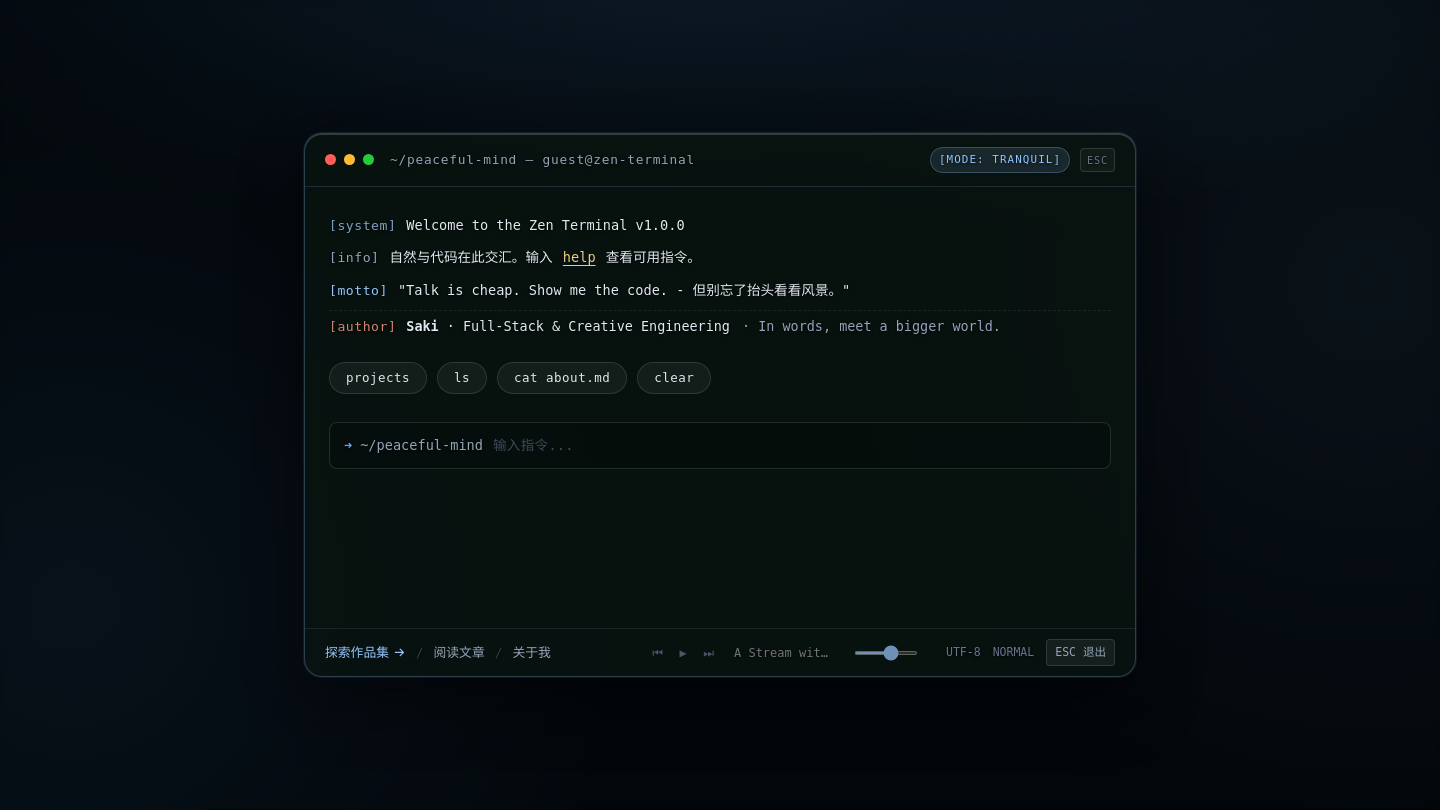
ZenTerminalModal › renders Hallmark studied DNA welcome banner and responds to quick capsule click
The width and height of the screenshot is (1440, 810).
Expected: the button with class "capsule" reads "projects", [329, 362, 427, 394]
Expected: the button with class "capsule" reads "cat about.md", [497, 362, 627, 394]
// 点击 ls 胶囊
Click the button with class "capsule" showing "ls". click: (462, 378)
box: [437, 362, 487, 394]
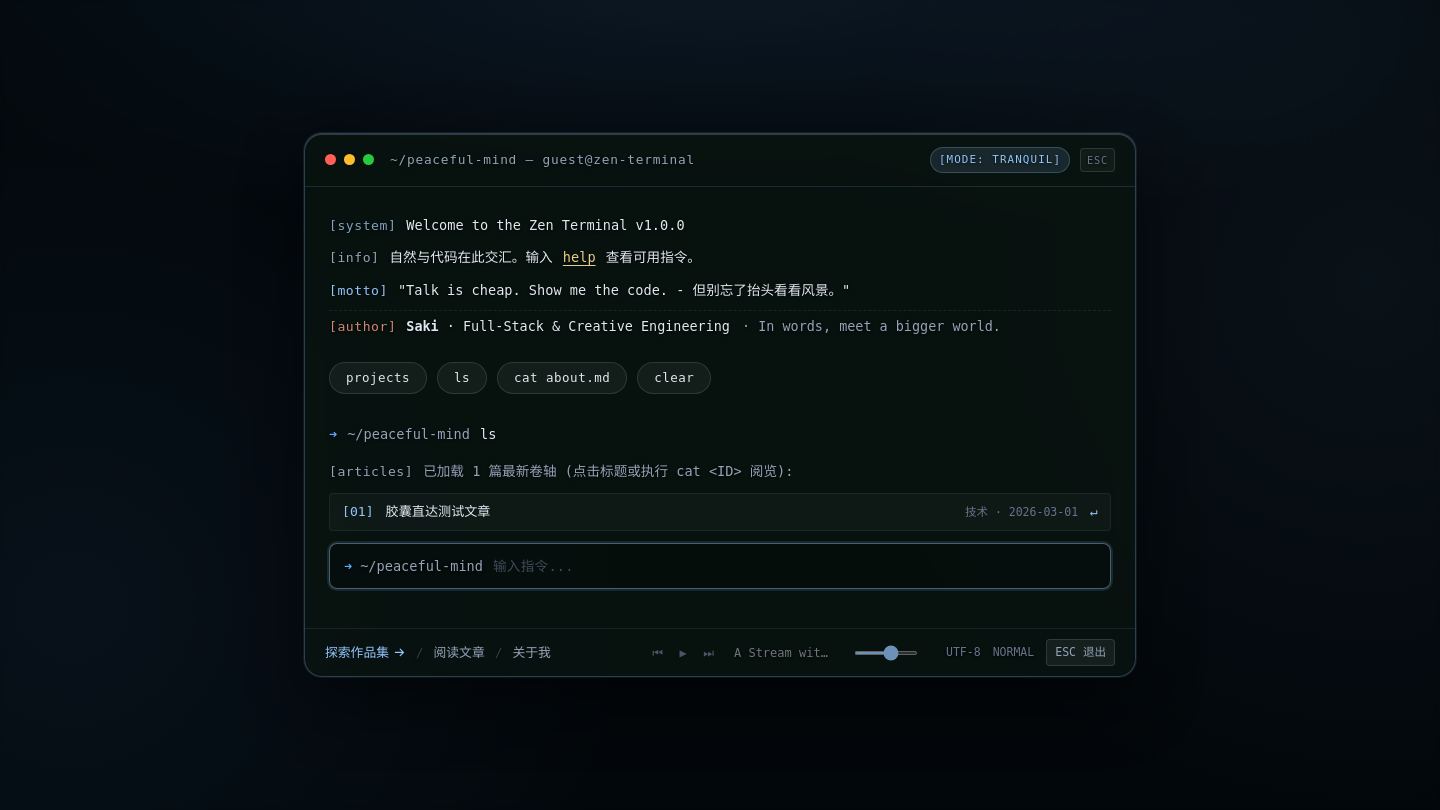
Expected: the text "胶囊直达测试文章" is shown, [386, 504, 490, 519]
